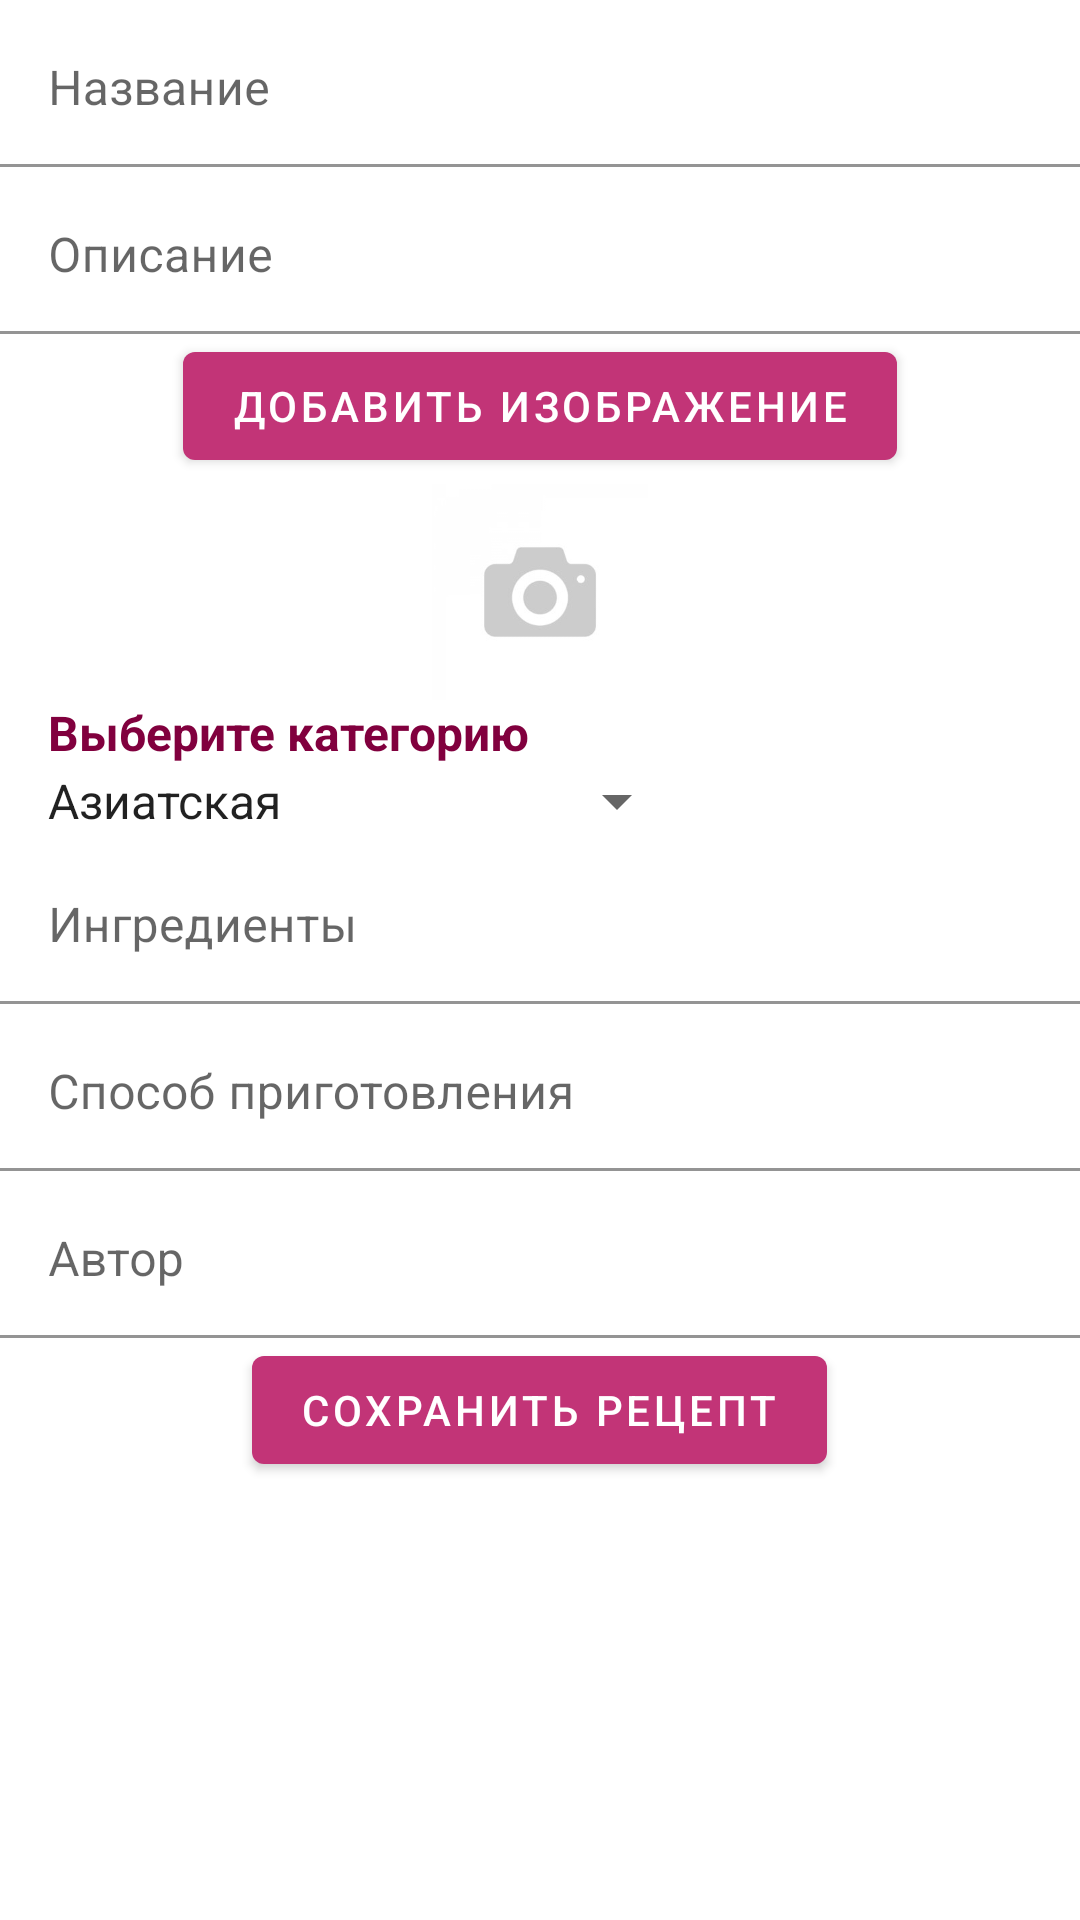

Where icons sit on this 1080x1920 app screen, as (x1, y1, x2, y2):
no photo: (484, 547, 596, 637)
